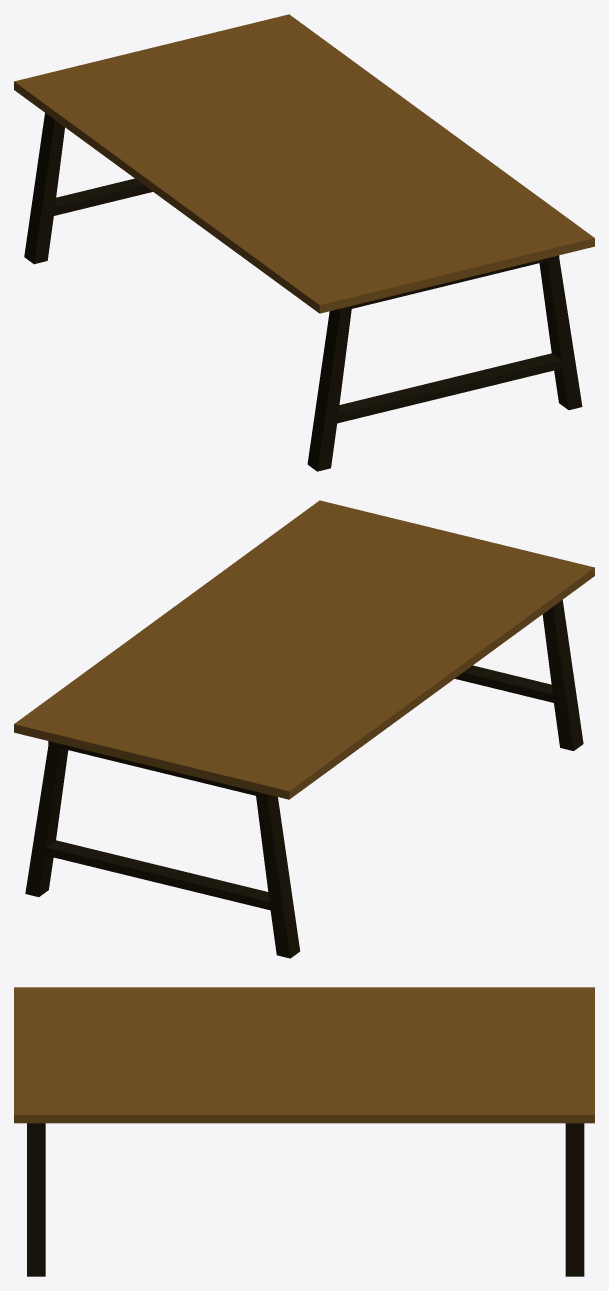
File: Meja_SmartClass.glb
3 renders of one model, top to bottom at view 1: azimuth 30°, elevation 25°; view 2: azimuth 150°, elevation 25°; view 3: azimuth 270°, elevation 25°, orthographic. The views are drawn at different scales.
Visible parts, largest first — view 1: Cube.003, Cube.002, Cube.001; view 2: Cube.003, Cube.001, Cube.002; view 3: Cube.003, Cube.001, Cube.002.
Part boxes in pixels (box(x1,y1,x2,y2)): Cube.003: box(14, 14, 594, 313); Cube.002: box(307, 255, 582, 471); Cube.001: box(24, 113, 152, 264); Cube.003: box(14, 500, 594, 799); Cube.001: box(25, 741, 300, 958); Cube.002: box(455, 600, 583, 750); Cube.003: box(14, 987, 594, 1123); Cube.001: box(565, 1123, 584, 1276); Cube.002: box(27, 1123, 45, 1276).
Size of the model in its own units: 2.86 by 1.71 by 5.5.
